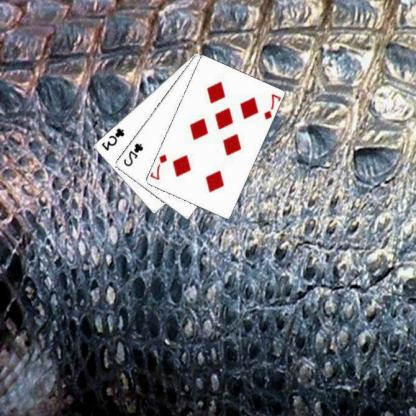2C: (122, 140, 146, 168)
3C: (100, 126, 127, 152)
7D: (150, 152, 170, 182), (262, 91, 282, 121)
